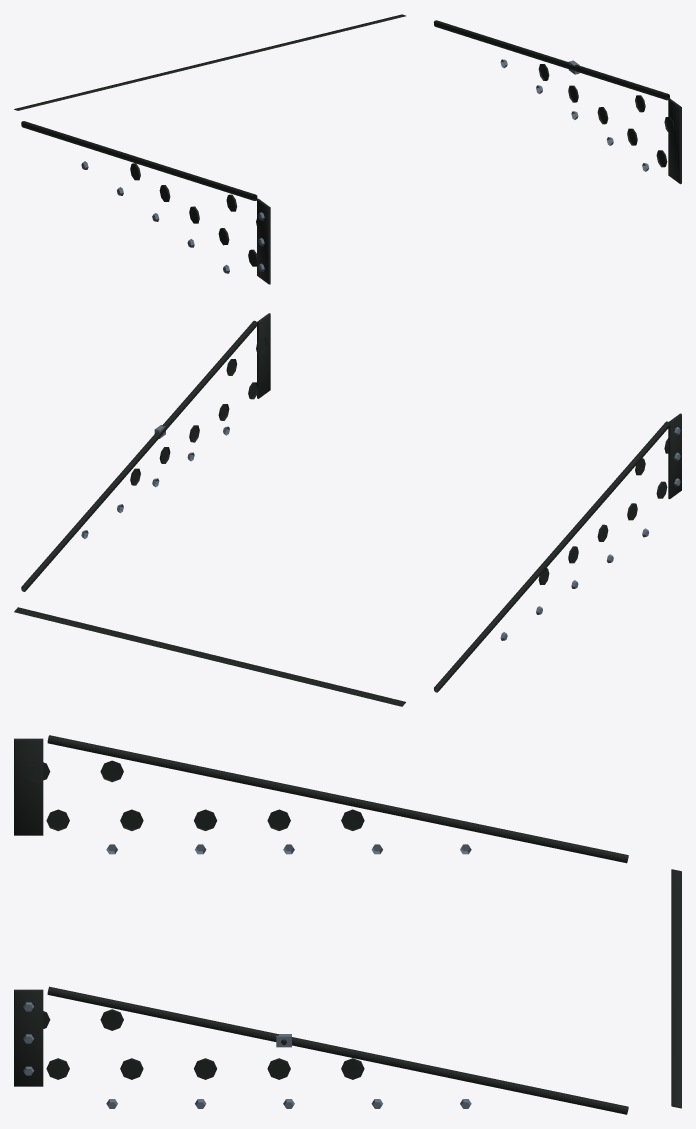
Rendered from kicker_wedge_detail2.glb.
3 views of the same model, one above another, from view 1: azimuth 30°, elevation 25°; view 2: azimuth 150°, elevation 25°; view 3: azimuth 270°, elevation 25° (orthographic). The views are drawn at different scales.
Parts seen in each view (by area): view 1: Detail2; view 2: Detail2; view 3: Detail2.
Boxes of the visible parts, x1,y1,x2,y2 form: Detail2: (14,14,681,284); Detail2: (14,313,681,706); Detail2: (14,735,681,1114).
Size of the model in its own units: 6.21 by 1.45 by 6.8.
